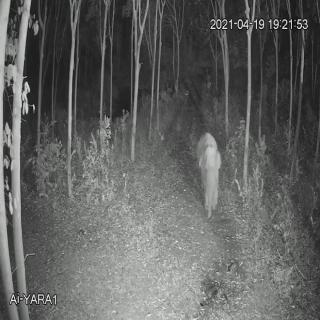Elephant: (189, 127, 228, 218)
